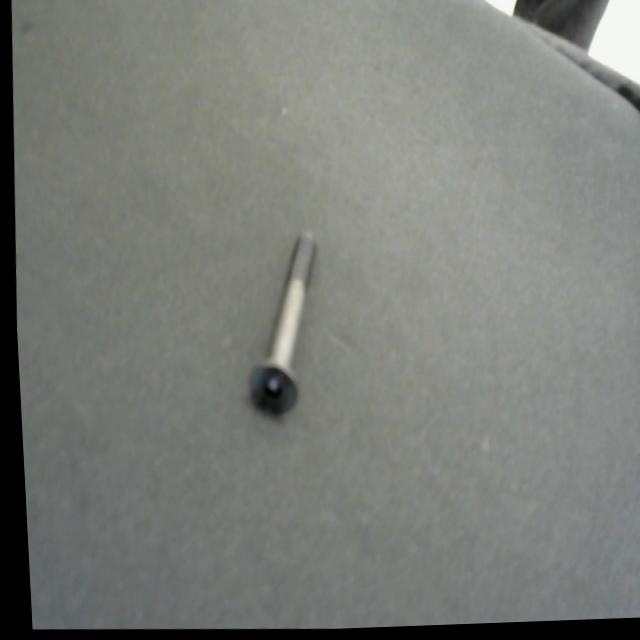FlatHeadSocketScrew: (224, 208, 332, 442)
